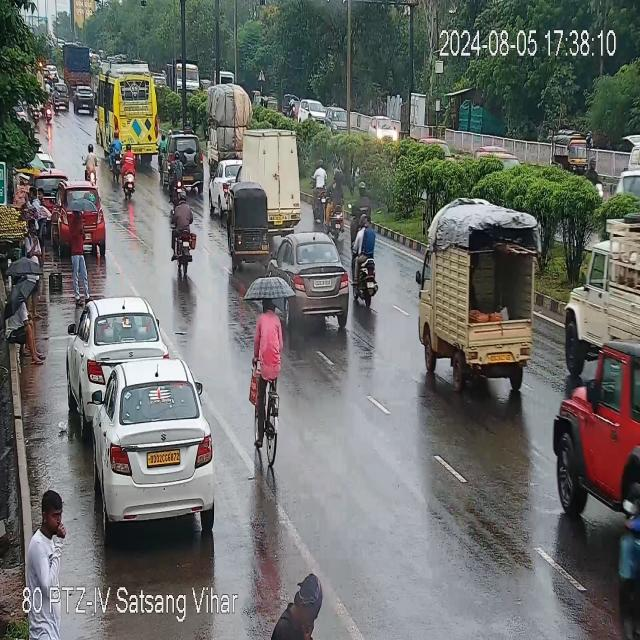2-wheelers: (252, 292, 282, 463), (348, 218, 384, 316), (169, 198, 203, 283), (323, 167, 344, 239), (309, 155, 328, 226), (119, 143, 140, 200), (82, 143, 101, 188), (171, 146, 186, 202), (107, 134, 123, 172)
auto: (415, 194, 532, 391), (226, 181, 274, 268), (549, 130, 590, 172)
bus: (96, 62, 166, 177)
car: (93, 359, 219, 527), (544, 337, 638, 518), (73, 298, 164, 403), (273, 234, 353, 327), (48, 178, 108, 261), (163, 130, 206, 198), (74, 82, 96, 114)
pedestrian: (5, 250, 47, 352), (22, 486, 67, 580), (64, 195, 91, 302), (21, 215, 51, 290)
truck: (554, 200, 640, 344), (216, 121, 308, 231), (64, 41, 93, 88)
